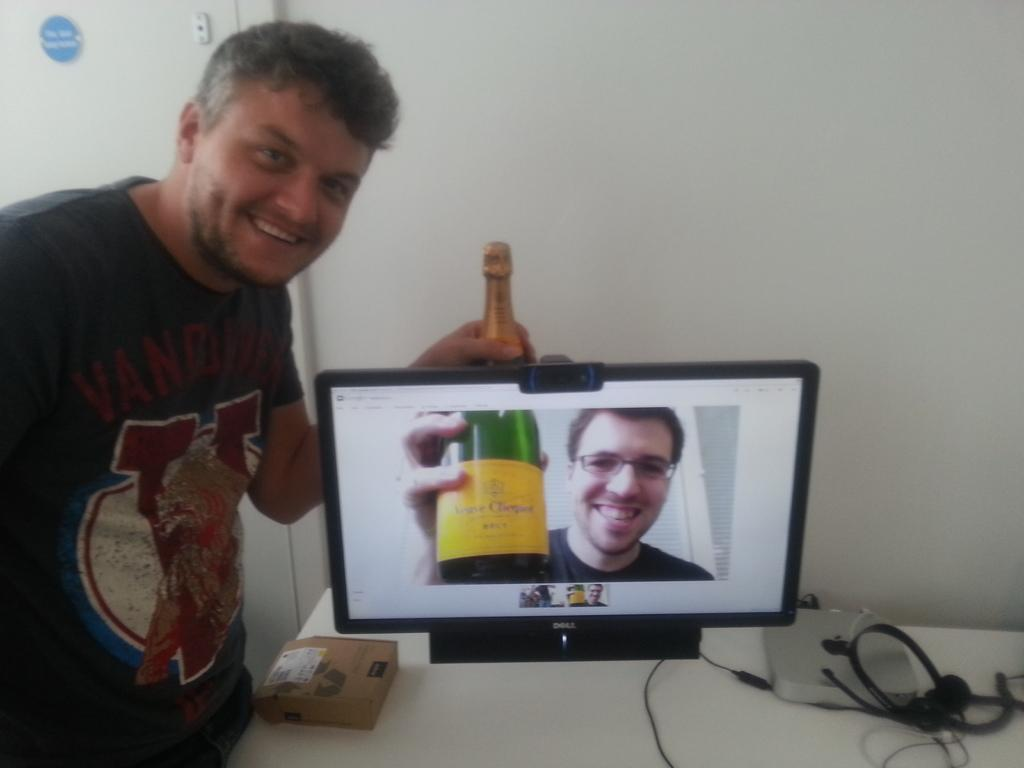Laptop: (313, 358, 820, 662)
